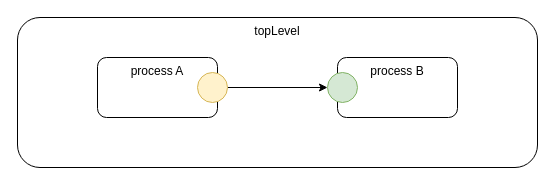
Image size: 555x185. Some labels were removed from this diagram. The centre of each missing label's shape, as x and y in pixels:
fb: [212,87]
in: [342,87]
